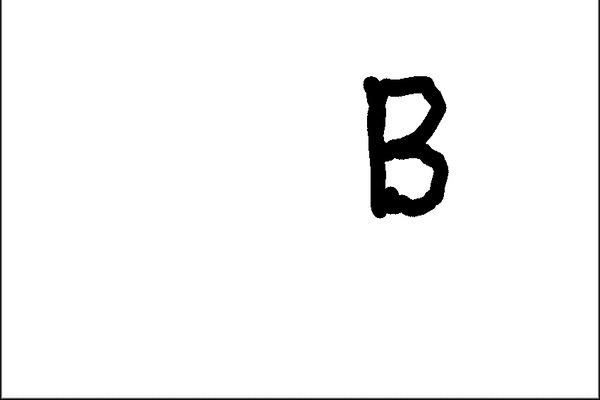B: (354, 66, 455, 223)
